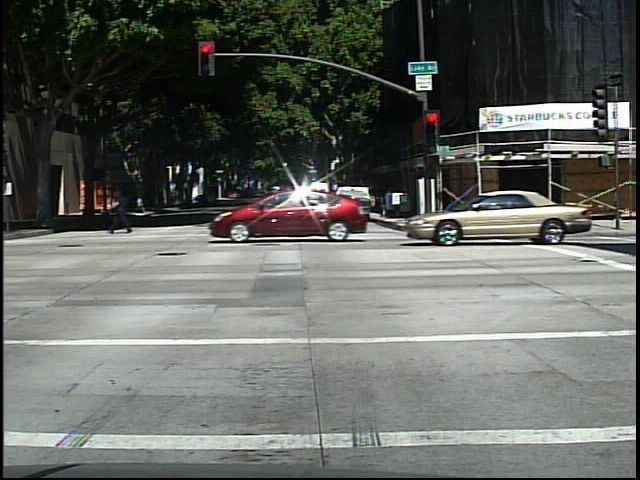person: (105, 184, 136, 236)
